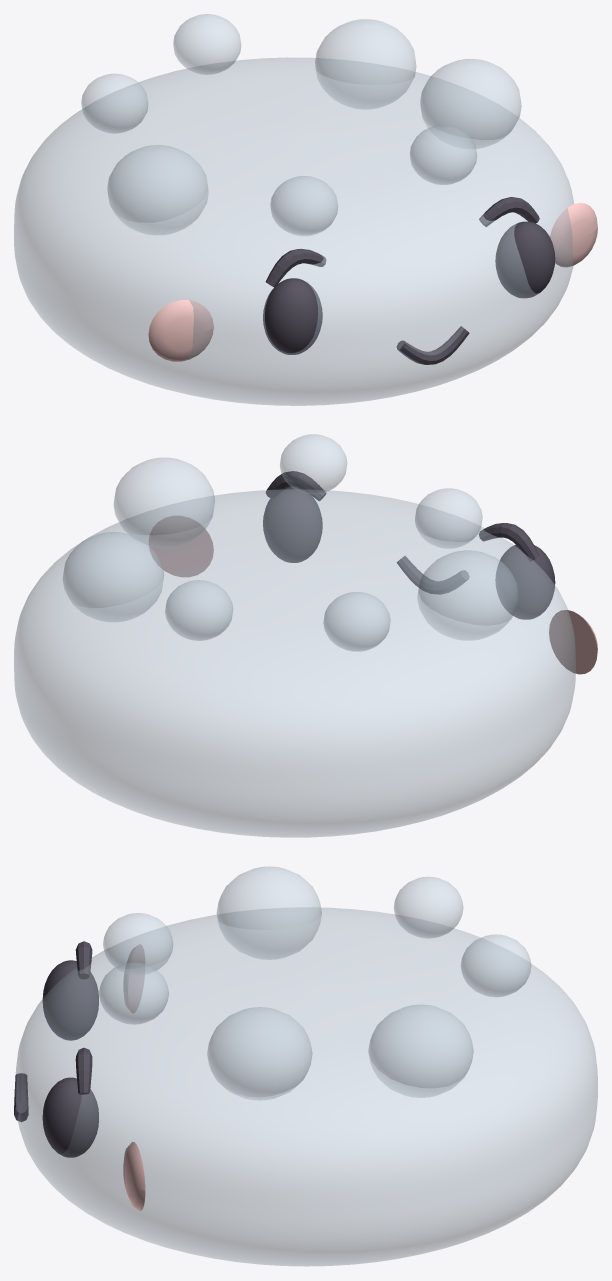
Rendered from jelly-friends-playroom-jelly-cloud-squashed-840372dd__27613.glb.
3 views of the same model, one above another, from view 1: azimuth 30°, elevation 25°; view 2: azimuth 150°, elevation 25°; view 3: azimuth 270°, elevation 25° (orthographic). The views are drawn at different scales.
Parts seen in each view (by area): view 1: body, crown, eye-right, eye-left, blush-left, blush-right, mouth, brow-left, brow-right; view 2: body, crown, eye-right, eye-left, blush-right, blush-left, mouth, brow-left, brow-right; view 3: body, crown, eye-right, eye-left, blush-right, blush-left, brow-right, mouth, brow-left.
Boxes of the visible parts, box(x1,y1,x2,y2) form: body: box(14, 57, 573, 405); crown: box(81, 14, 521, 235); eye-right: box(495, 221, 555, 298); eye-left: box(263, 278, 322, 354); blush-left: box(148, 300, 213, 361); blush-right: box(550, 203, 597, 267); mouth: box(396, 326, 469, 364); brow-left: box(265, 248, 326, 287); brow-right: box(479, 197, 539, 226); body: box(14, 489, 575, 837); crown: box(63, 434, 518, 651); eye-right: box(263, 486, 322, 562); eye-left: box(495, 544, 555, 619); blush-right: box(149, 516, 213, 577); blush-left: box(549, 610, 597, 674); mouth: box(397, 556, 469, 594); brow-left: box(479, 523, 539, 561); brow-right: box(266, 471, 326, 500); body: box(15, 907, 597, 1266); crown: box(99, 866, 531, 1100); eye-right: box(42, 1077, 98, 1157); eye-left: box(42, 960, 98, 1040); blush-right: box(123, 1142, 145, 1210); blush-left: box(123, 944, 144, 1013); brow-right: box(75, 1047, 92, 1094); mouth: box(14, 1073, 28, 1121); brow-left: box(75, 941, 92, 979).
Size of the model in its own units: 0.3956 by 0.182 by 0.3984.
